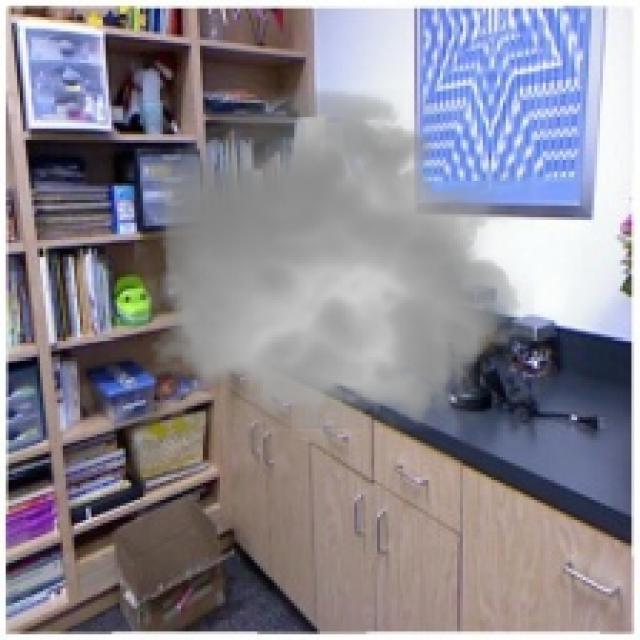Smoke: (135, 77, 534, 446)
